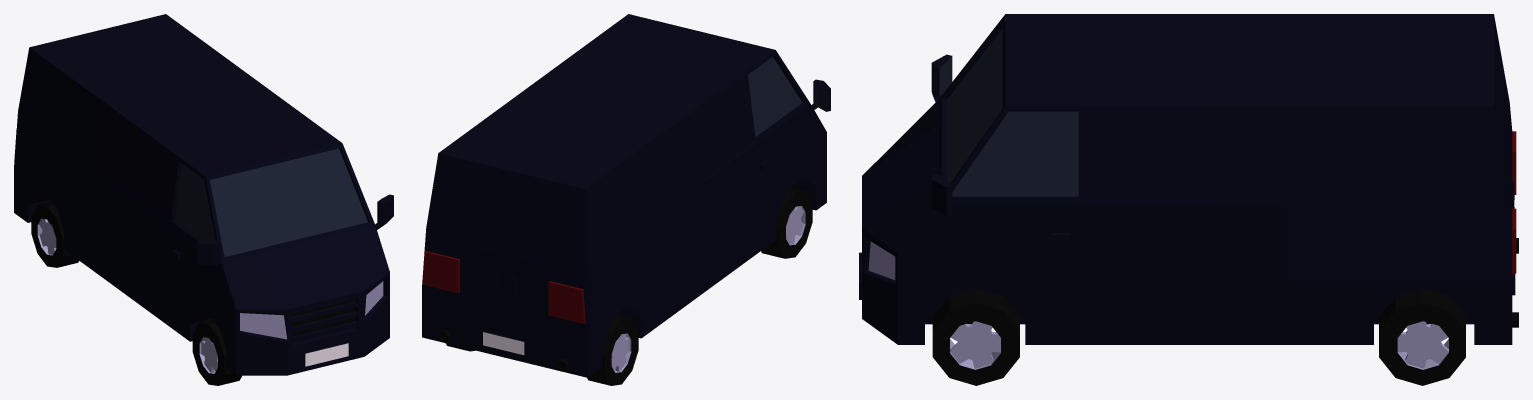
File: van.glb
3 renders of one model, left to right at view 1: azimuth 30°, elevation 25°; view 2: azimuth 150°, elevation 25°; view 3: azimuth 270°, elevation 25°, orthographic. The views are drawn at different scales.
Parts seen in each view (by area): view 1: Van, Van_wheel_front_right, Van_wheel_rear_right; view 2: Van, Van_wheel_rear_right, Van_wheel_front_right; view 3: Van, Van_wheel_front_left, Van_wheel_rear_left.
Part boxes in pixels (left/top/right/bottom): Van: left=14, top=14, right=393, bottom=375; Van_wheel_front_right: left=192, top=319, right=241, bottom=385; Van_wheel_rear_right: left=31, top=201, right=78, bottom=267; Van: left=422, top=14, right=830, bottom=377; Van_wheel_rear_right: left=587, top=314, right=638, bottom=385; Van_wheel_front_right: left=761, top=187, right=812, bottom=258; Van: left=859, top=14, right=1518, bottom=344; Van_wheel_front_left: left=932, top=288, right=1019, bottom=385; Van_wheel_rear_left: left=1379, top=288, right=1465, bottom=385.
Bounding box in the file's own units: 2.19 × 2.11 × 4.6.
